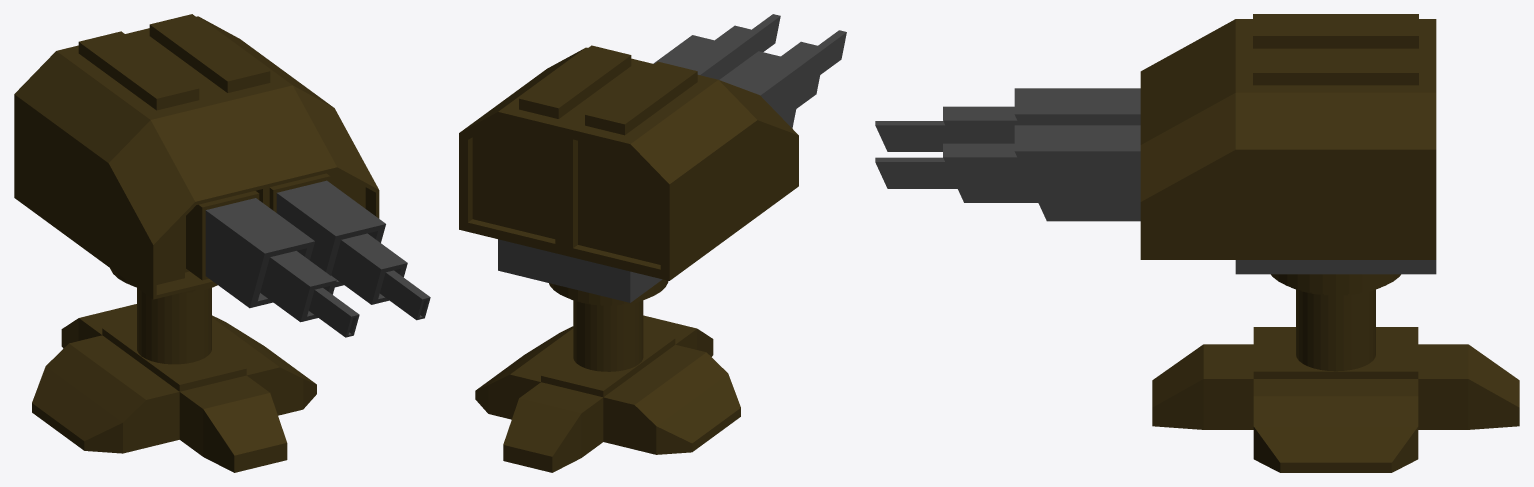
Rendered from turret 1.fbx.
3 views of the same model, side by side, from view 1: azimuth 30°, elevation 25°; view 2: azimuth 150°, elevation 25°; view 3: azimuth 270°, elevation 25° (orthographic). The views are drawn at different scales.
Parts seen in each view (by area): view 1: Cube, Cylinder; view 2: Cube, Cylinder; view 3: Cube, Cylinder.
Part boxes in pixels (box(x1,y1,x2,y2)): Cube: box(14, 14, 430, 337); Cylinder: box(32, 268, 316, 472); Cube: box(459, 14, 846, 302); Cylinder: box(475, 279, 740, 472); Cube: box(875, 14, 1436, 274); Cylinder: box(1152, 274, 1519, 472).
Size of the model in its own units: 348 by 495 by 784.
